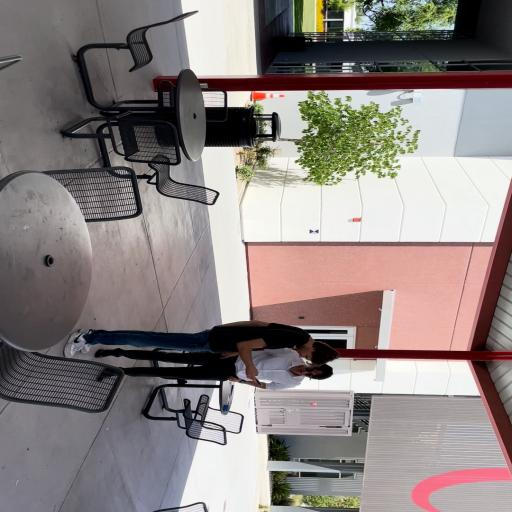target6: (309, 229, 319, 234)
